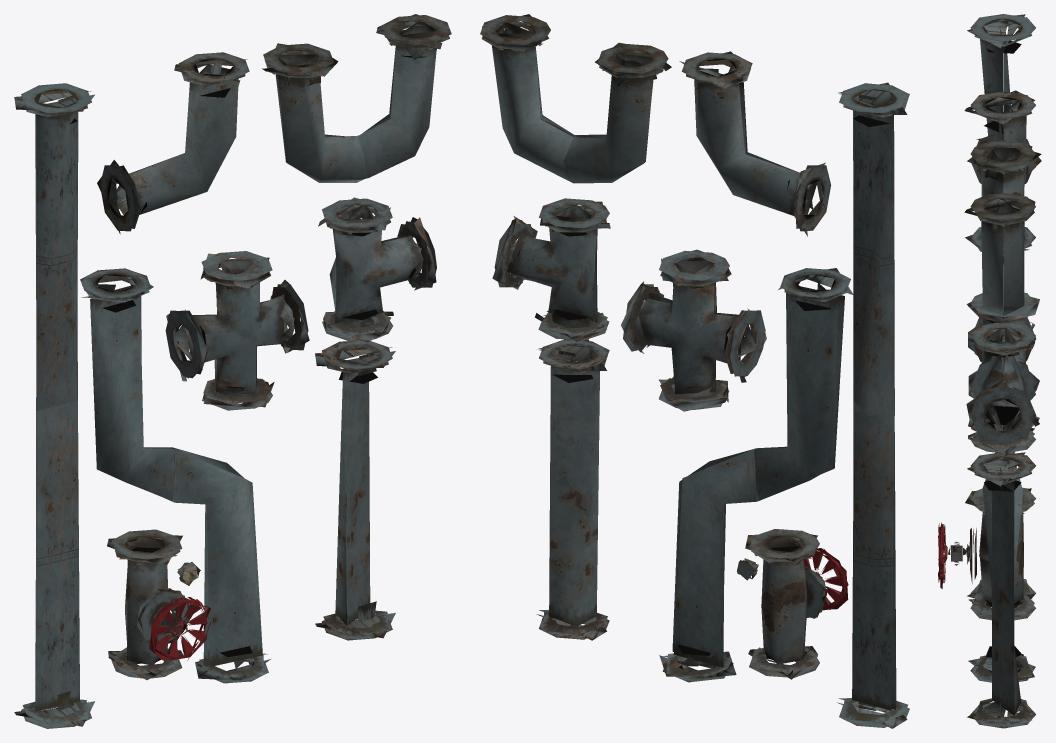
Rendered from modular_industrial_pipes_01_lod1.gltf.
3 views of the same model, side by side, from view 1: azimuth 30°, elevation 25°; view 2: azimuth 150°, elevation 25°; view 3: azimuth 270°, elevation 25° (orthographic). The views are drawn at different scales.
Visible parts, largest first — view 1: modular_industrial_pipes_01_lod1; view 2: modular_industrial_pipes_01_lod1; view 3: modular_industrial_pipes_01_lod1.
Part boxes in pixels (x1,y1,x2,y2): modular_industrial_pipes_01_lod1: (14,14,451,728); modular_industrial_pipes_01_lod1: (480,14,909,728); modular_industrial_pipes_01_lod1: (938,14,1041,728).
Size of the model in its own units: 1.43 by 1.96 by 0.3249.
Materials: 2 (2 with a texture image).
